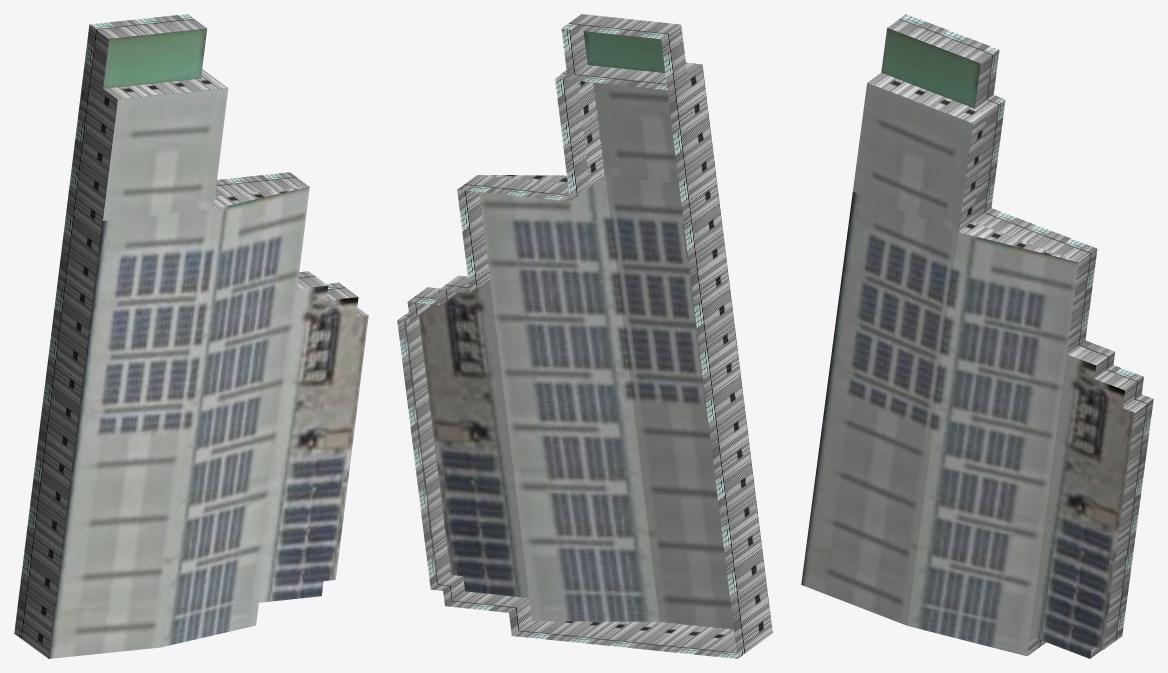
File: NCR_Corporation_India_Pvt_Ltd.glb
3 renders of one model, left to right at view 1: azimuth 30°, elevation 25°; view 2: azimuth 150°, elevation 25°; view 3: azimuth 330°, elevation 25°, orthographic. The views are drawn at different scales.
Visible parts, largest first — view 1: NCR_Corporation_India_Pvt_Ltd; view 2: NCR_Corporation_India_Pvt_Ltd; view 3: NCR_Corporation_India_Pvt_Ltd.
Part boxes in pixels (box(x1,y1,x2,y2)): NCR_Corporation_India_Pvt_Ltd: box(14, 14, 368, 658); NCR_Corporation_India_Pvt_Ltd: box(397, 14, 772, 658); NCR_Corporation_India_Pvt_Ltd: box(801, 14, 1153, 658).
Size of the model in its own units: 91.64 by 163 by 16.38.
Materials: 2 (2 with a texture image).
